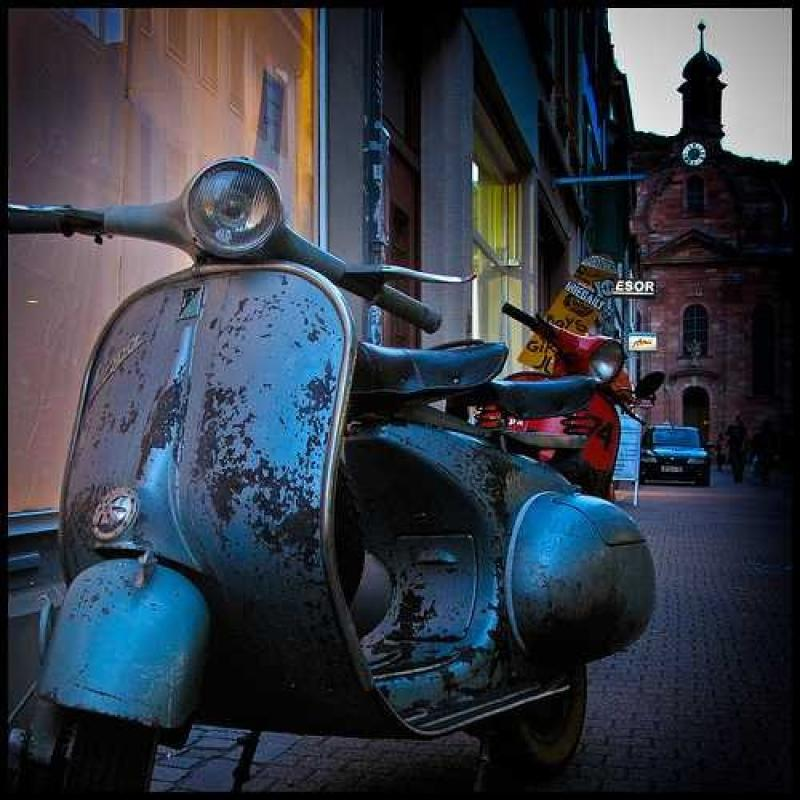bike: (0, 91, 661, 780)
